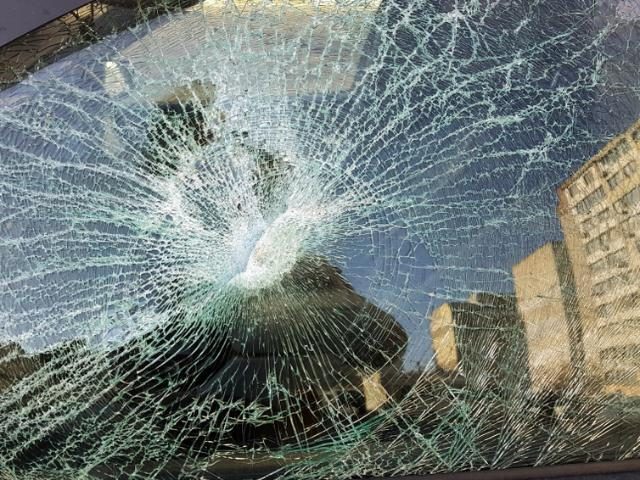Windshield: (4, 12, 640, 480)
